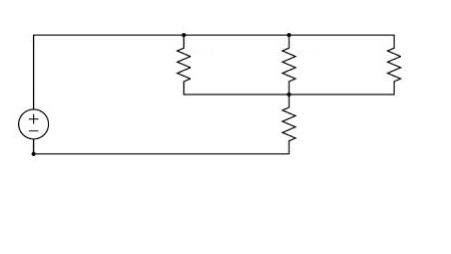resistor: (369, 32, 406, 96), (266, 32, 303, 95), (167, 31, 194, 95), (275, 93, 303, 148)
